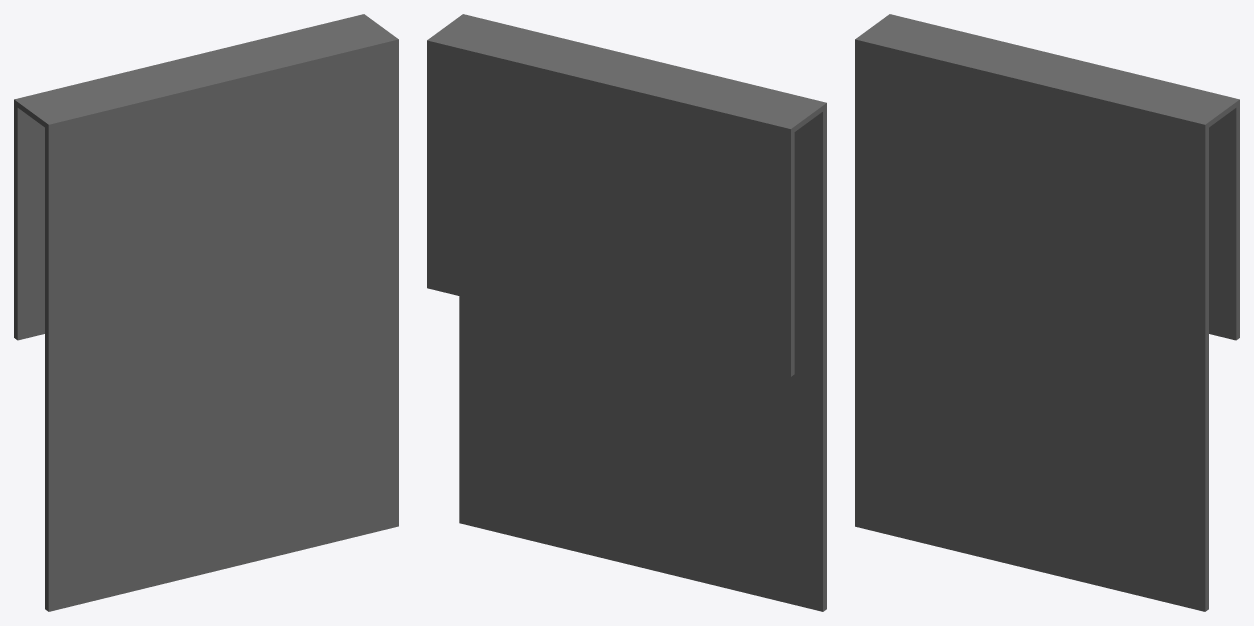
File: Itr_Towel_05.FBX
The picture shows the model from 3 angles, left to right: view 1: azimuth 30°, elevation 25°; view 2: azimuth 150°, elevation 25°; view 3: azimuth 330°, elevation 25°; orthographic projection. The views are drawn at different scales.
Visible parts, largest first — view 1: Itr_Towel_05; view 2: Itr_Towel_05; view 3: Itr_Towel_05.
Boxes of the visible parts, x1,y1,x2,y2 form: Itr_Towel_05: [14, 14, 398, 611]; Itr_Towel_05: [427, 14, 826, 611]; Itr_Towel_05: [855, 14, 1239, 611].
Bounding box in the file's own units: 17.26 × 22.96 × 2.97.
